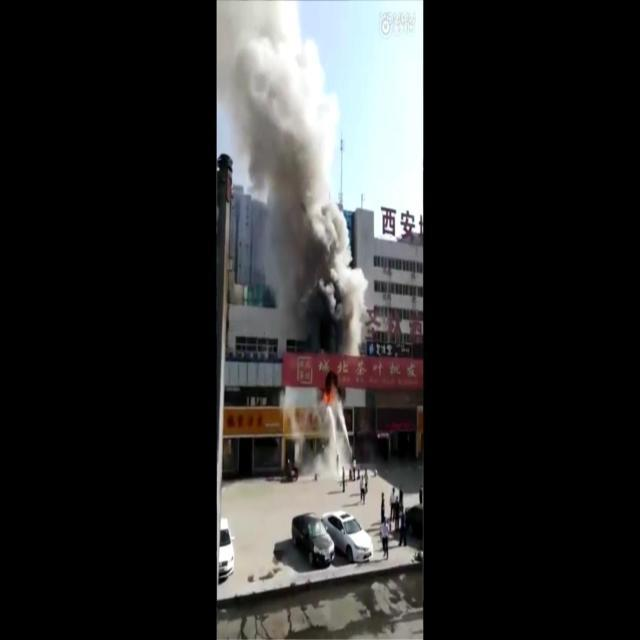Fire: (322, 383, 339, 408)
Smoke: (216, 1, 368, 358)
